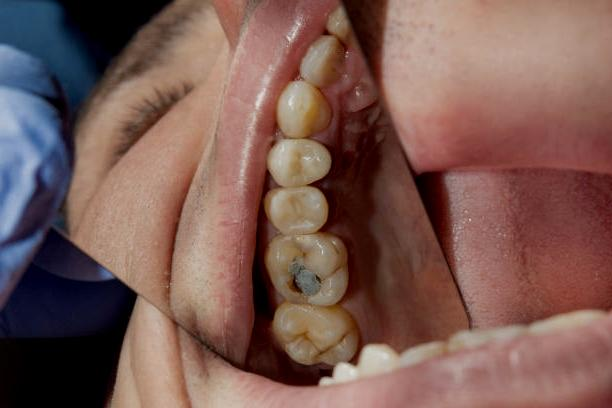Caries: (277, 255, 326, 300)
